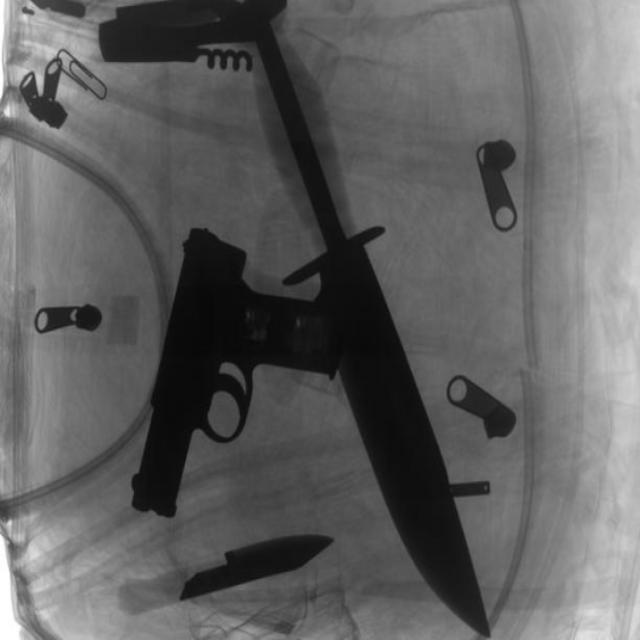GUN: (126, 230, 355, 525)
KNIFE: (181, 519, 333, 615)
